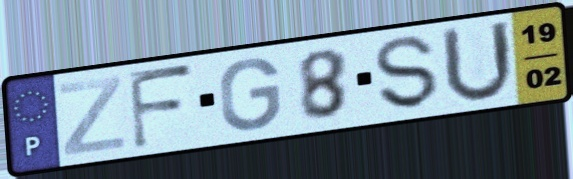8: (294, 46, 352, 123)
F: (125, 62, 198, 153)
G: (217, 55, 284, 134)
S: (371, 34, 442, 112)
U: (438, 18, 518, 107)
Z: (55, 73, 127, 159)
